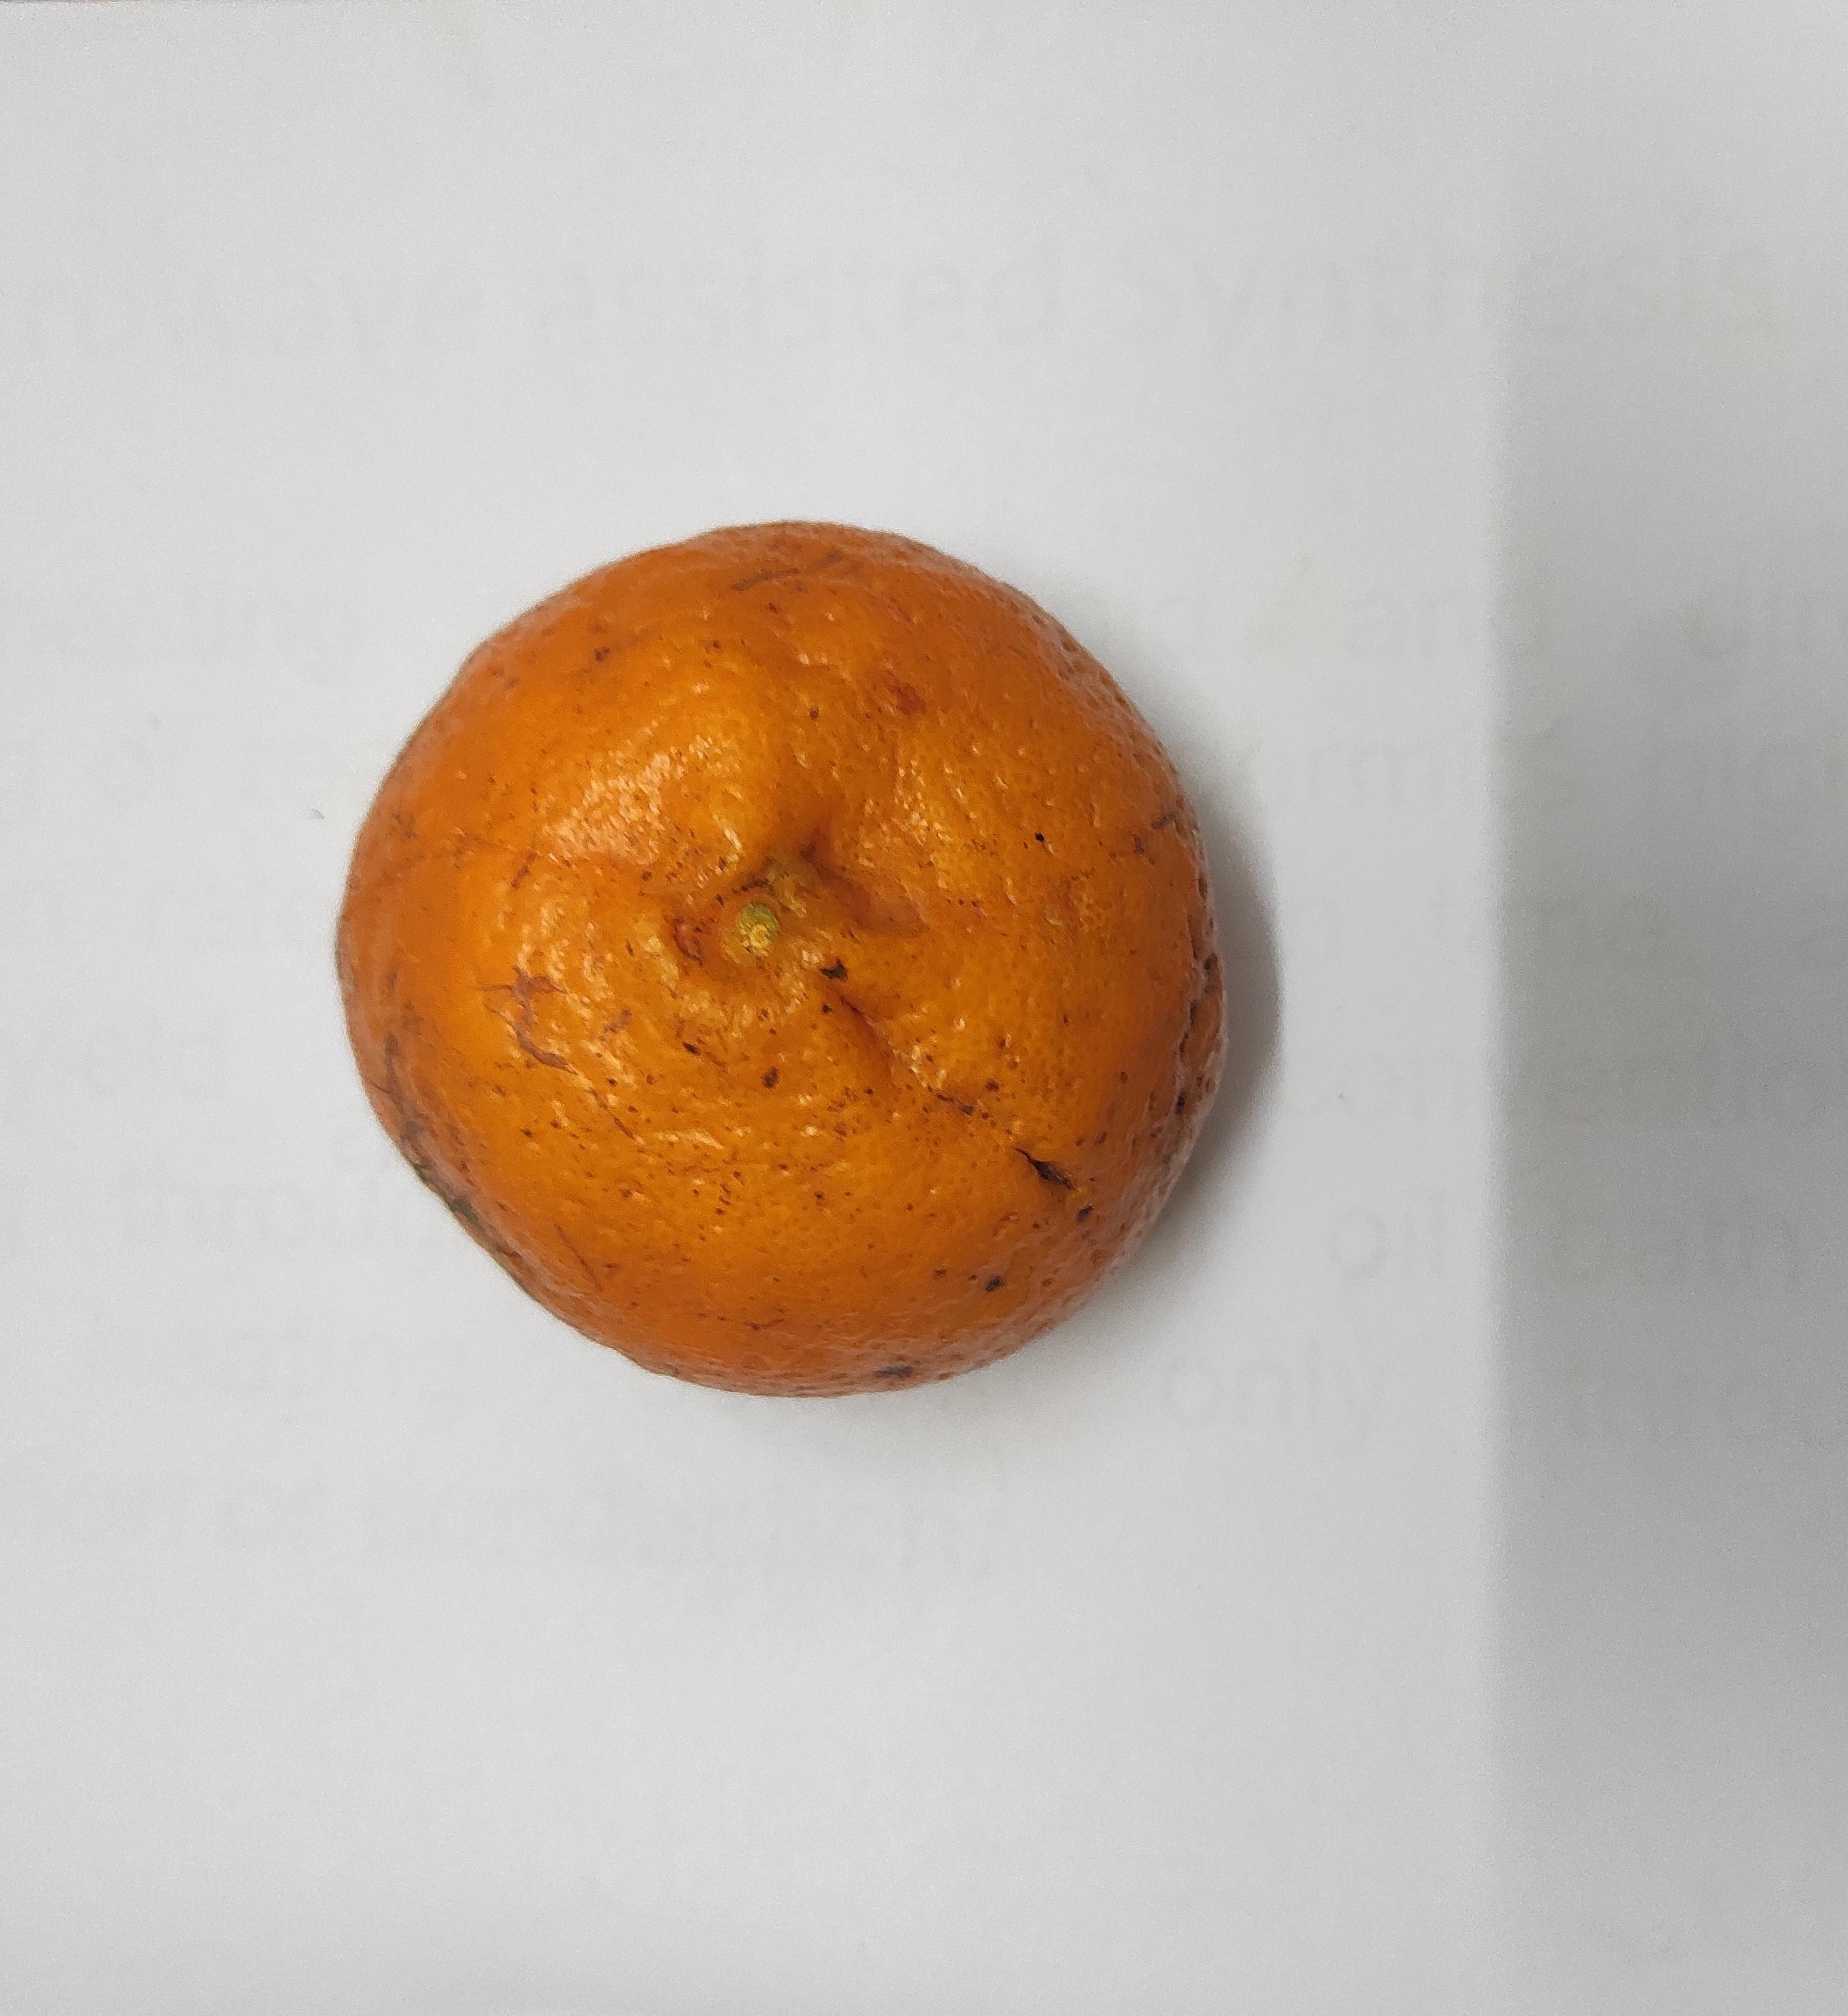Unripe: (330, 516, 1200, 1386)
